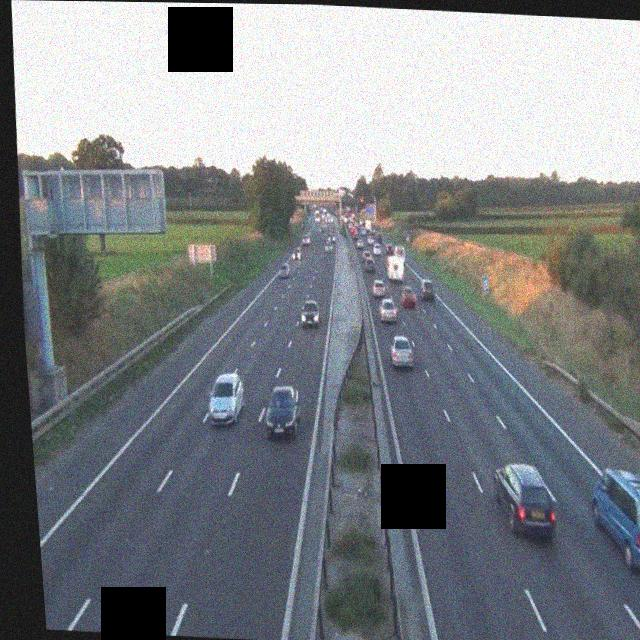car: (587, 466, 640, 574), (490, 462, 559, 539), (204, 371, 246, 425), (263, 383, 303, 439), (388, 334, 414, 368), (300, 298, 321, 327), (378, 298, 399, 323), (418, 277, 436, 302), (397, 287, 416, 308), (372, 278, 388, 298), (276, 261, 290, 277), (365, 257, 379, 273), (362, 253, 375, 267), (289, 248, 300, 262), (324, 240, 333, 252), (301, 233, 310, 245)
truck: (384, 245, 408, 282)
